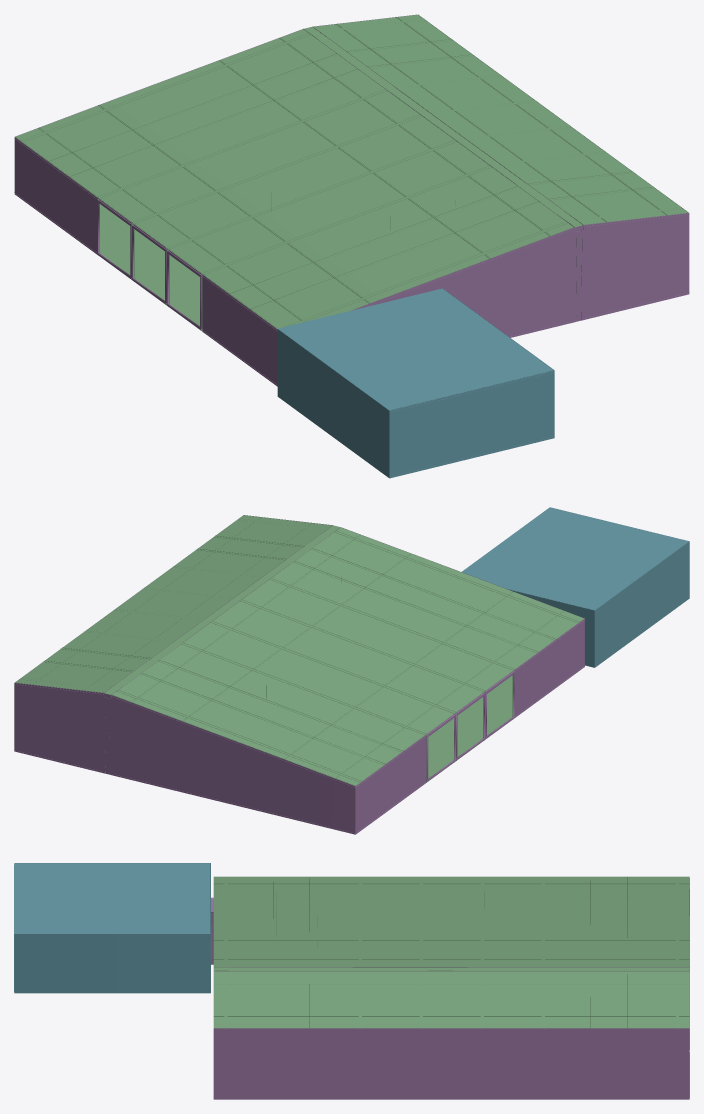
File: toimisto_huone.fbx
3 views of the same model, one above another, from view 1: azimuth 30°, elevation 25°; view 2: azimuth 150°, elevation 25°; view 3: azimuth 270°, elevation 25° (orthographic). The views are drawn at different scales.
Visible parts, largest first — view 1: katto_toimisto_01, tutorial_huone_01, seinat_toimisto_01; view 2: katto_toimisto_01, seinat_toimisto_01, tutorial_huone_01; view 3: katto_toimisto_01, seinat_toimisto_01, tutorial_huone_01.
Boxes of the visible parts, x1,y1,x2,y2 form: katto_toimisto_01: (15,14,688,331); tutorial_huone_01: (277,288,554,478); seinat_toimisto_01: (14,14,689,386); katto_toimisto_01: (14,515,584,786); seinat_toimisto_01: (14,515,584,834); tutorial_huone_01: (462,507,689,667); katto_toimisto_01: (212,876,689,1029); seinat_toimisto_01: (213,878,689,1099); tutorial_huone_01: (14,863,212,993).
Size of the model in its own units: 1754 by 386 by 2825.
